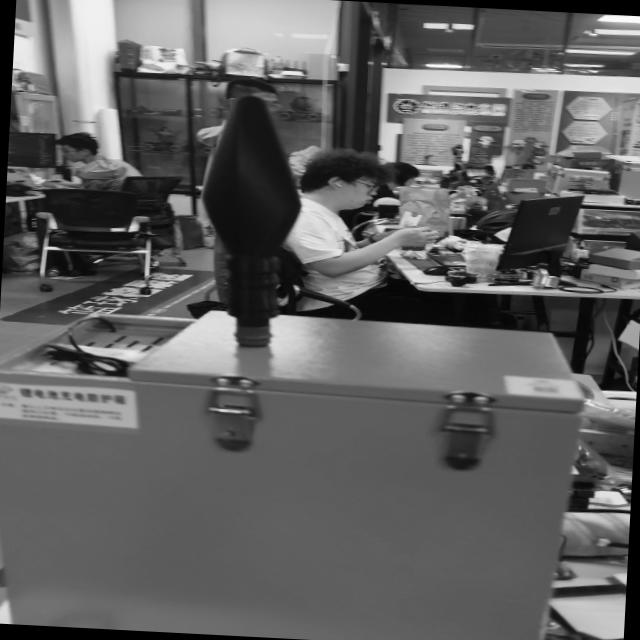base: (231, 324, 274, 351)
